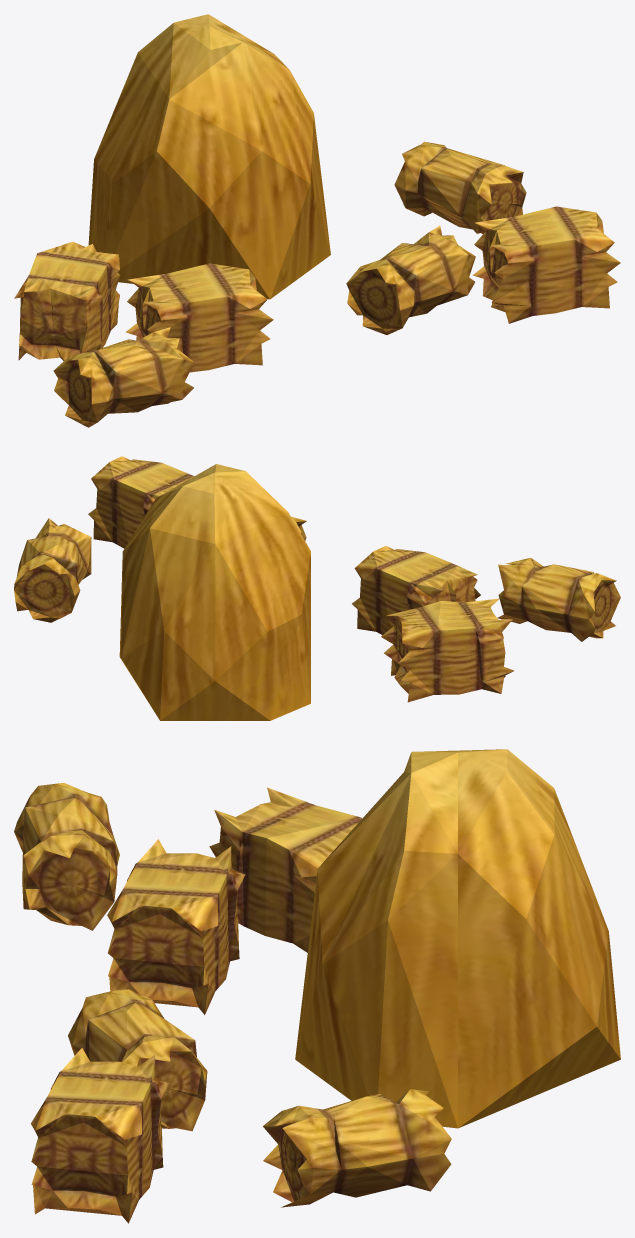
Rendered from fardos.glb.
3 renders of one model, top to bottom at view 1: azimuth 30°, elevation 25°; view 2: azimuth 150°, elevation 25°; view 3: azimuth 270°, elevation 25°, orthographic. The views are drawn at different scales.
Parts seen in each view (by area): view 1: HayCock_Straw, Cube_Straw03, Cube_Straw01, Cube_Straw02, HayRoll_Straw02, HayRoll_Straw01, HayRoll_Straw03; view 2: HayCock_Straw, Cube_Straw02, HayRoll_Straw02, Cube_Straw01, HayRoll_Straw03, Cube_Straw03; view 3: HayCock_Straw, Cube_Straw03, Cube_Straw01, HayRoll_Straw03, Cube_Straw02, HayRoll_Straw02, HayRoll_Straw01.
Part boxes in pixels (x1,y1,x2,y2): HayCock_Straw: [88, 14, 330, 299]; Cube_Straw03: [472, 206, 620, 323]; Cube_Straw01: [126, 263, 273, 372]; Cube_Straw02: [14, 241, 120, 360]; HayRoll_Straw02: [53, 327, 194, 427]; HayRoll_Straw01: [346, 225, 475, 334]; HayRoll_Straw03: [394, 141, 526, 233]; HayCock_Straw: [119, 464, 310, 720]; Cube_Straw02: [381, 598, 514, 702]; HayRoll_Straw02: [497, 557, 620, 641]; Cube_Straw01: [352, 546, 480, 635]; HayRoll_Straw03: [14, 518, 91, 622]; Cube_Straw03: [88, 456, 194, 548]; HayCock_Straw: [295, 749, 620, 1128]; Cube_Straw03: [31, 1048, 169, 1223]; Cube_Straw01: [107, 839, 245, 1014]; HayRoll_Straw03: [263, 1089, 451, 1207]; Cube_Straw02: [209, 787, 362, 952]; HayRoll_Straw02: [14, 783, 119, 930]; HayRoll_Straw01: [68, 989, 207, 1131].
Size of the model in its own units: 2.5 by 0.9943 by 1.78.
Materials: 1 (1 with a texture image).
